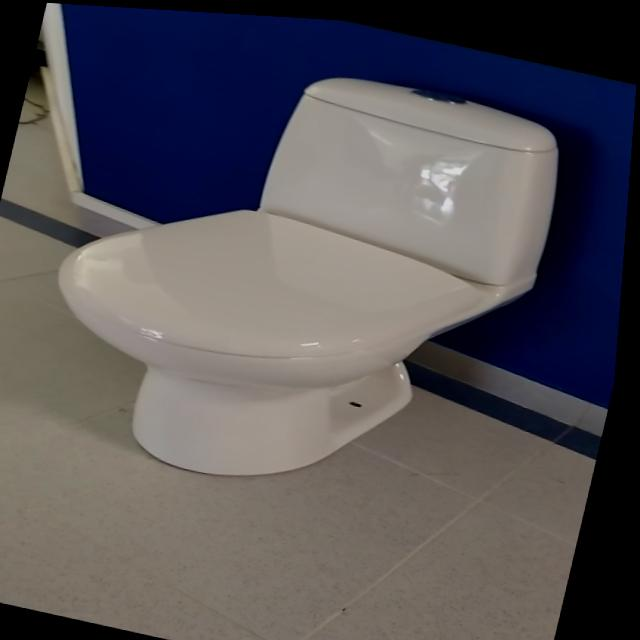toilet: (23, 16, 582, 532)
